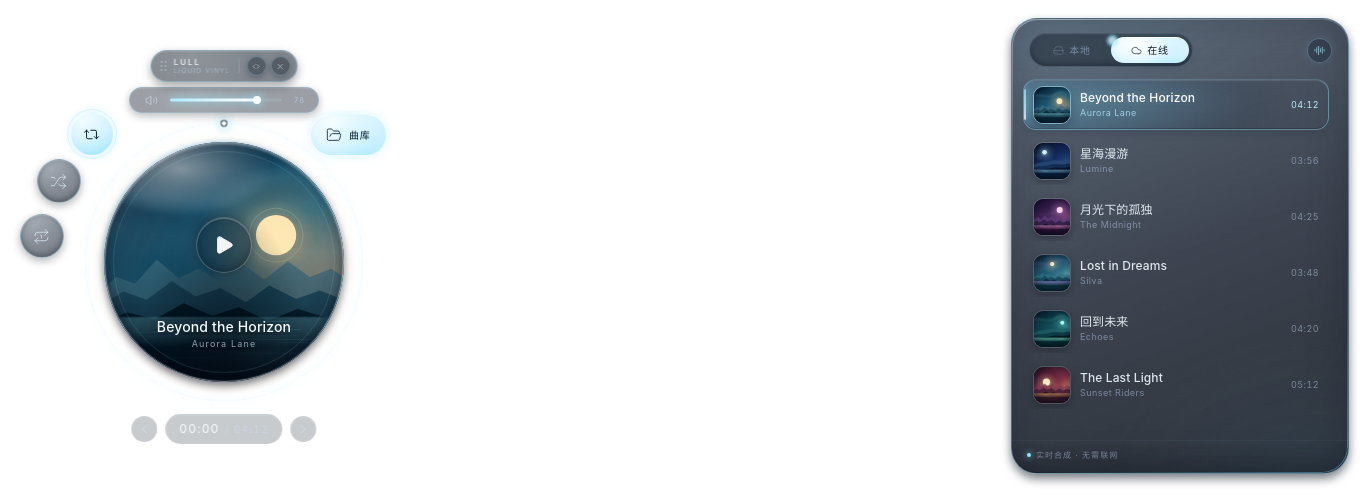
Scenario: 右上曲库泡切换抽屉展开状态
Click the button "曲库": x=348, y=135 [310, 114, 387, 156]
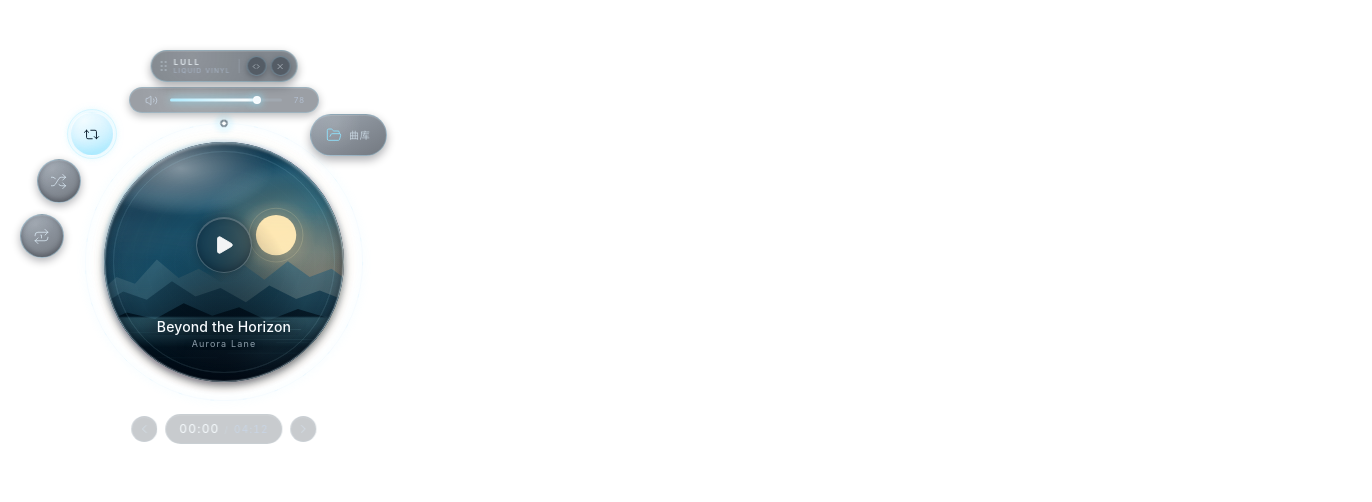
Result: the button "曲库" is collapsed
Click the button "曲库": x=348, y=135 [310, 114, 387, 156]
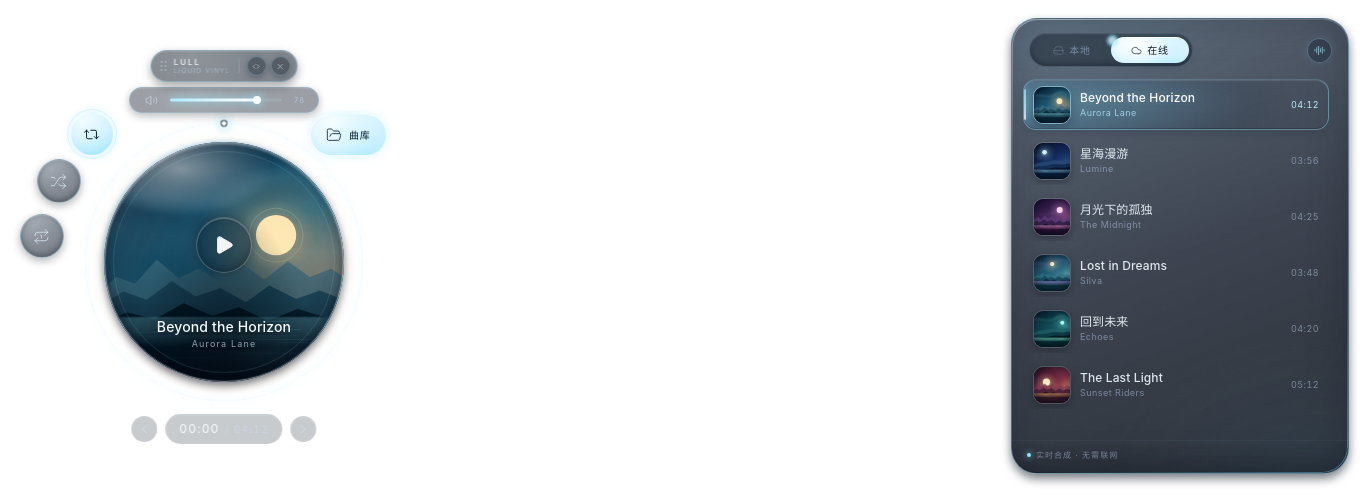
Result: the button "曲库" is expanded at [310, 114, 387, 156]
